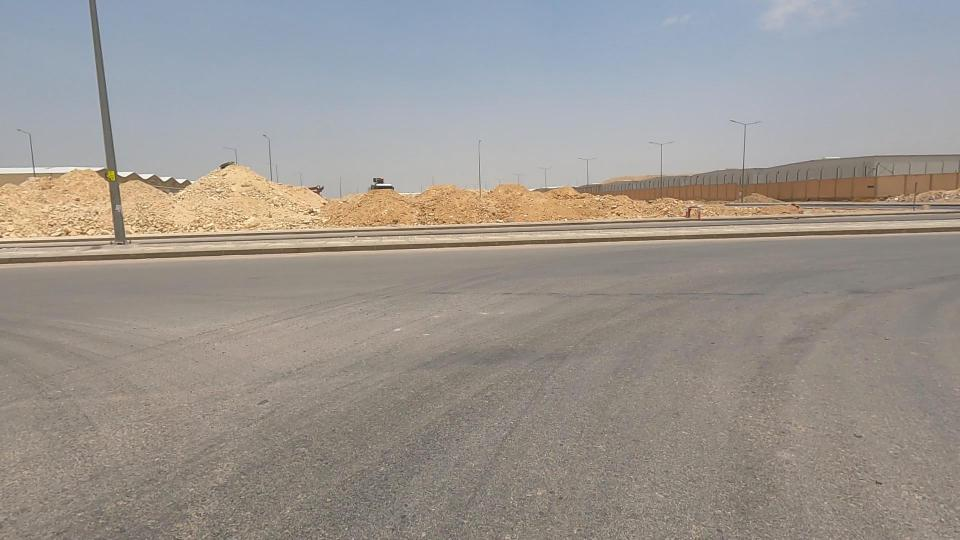SAND_ON_ROAD: (1, 142, 190, 257), (131, 136, 314, 242), (561, 165, 716, 245), (463, 162, 611, 234), (303, 166, 435, 243), (393, 165, 497, 236)
